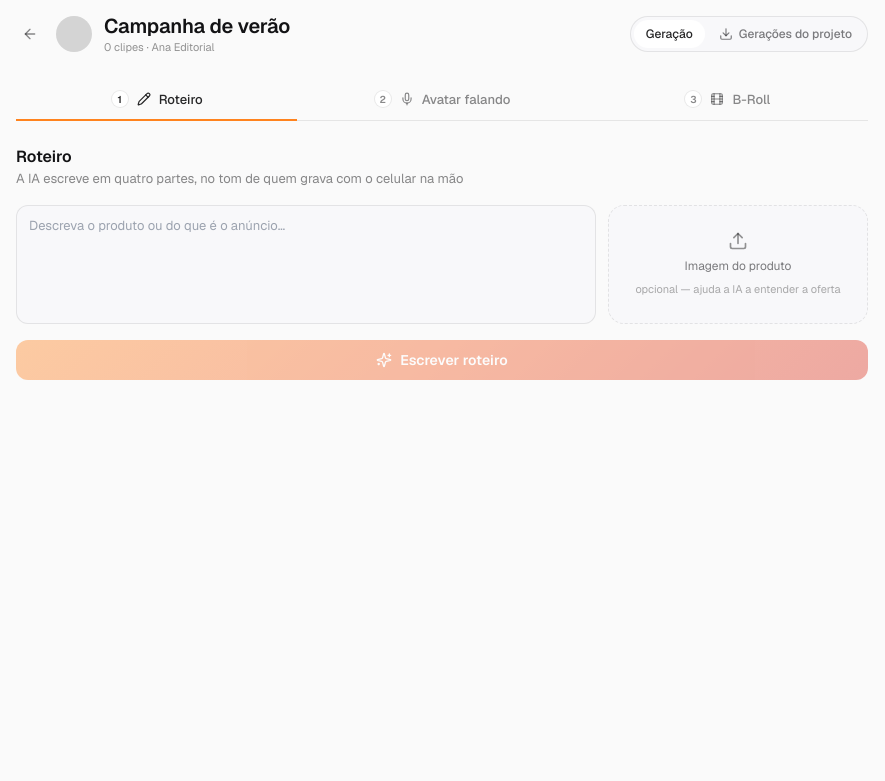
Test: UgcProjectPage › "Gerações do projeto" separa as duas gavetas, cada uma com seu vazio
Check: the element "Roteiro" is shown, box [16,145,868,380]
Click the button "Gerações do projeto" at (785, 34), box [707,20,864,48]
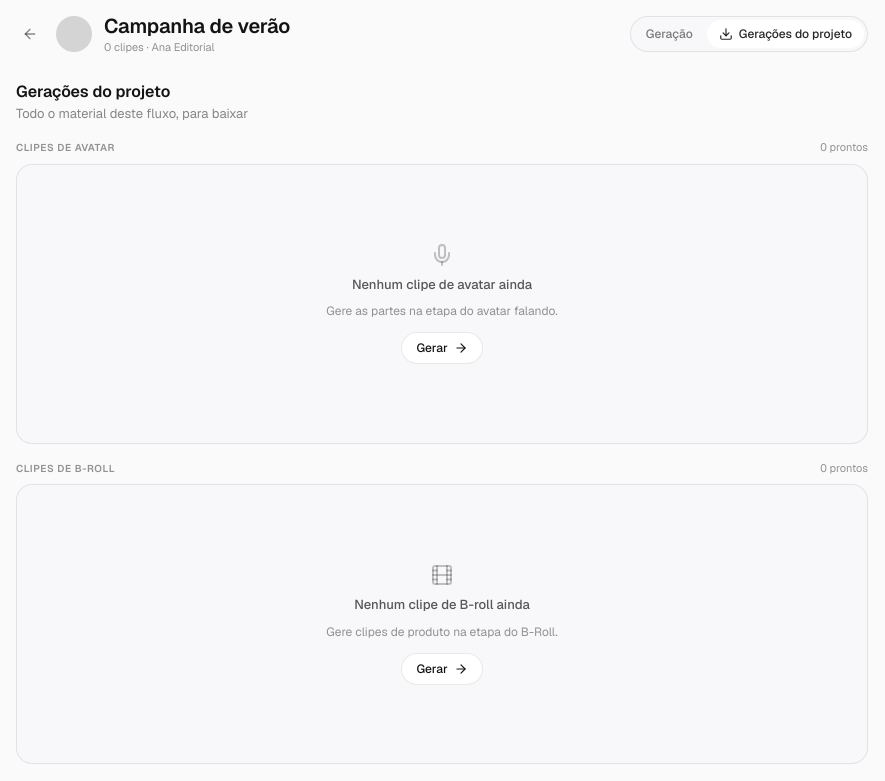
Check: the element "Gerações do projeto" is shown
Check: the text "Nenhum clipe de avatar ainda" is shown, box [352,275,532,294]
Check: the text "Nenhum clipe de B-roll ainda" is shown, box [354,595,530,615]
